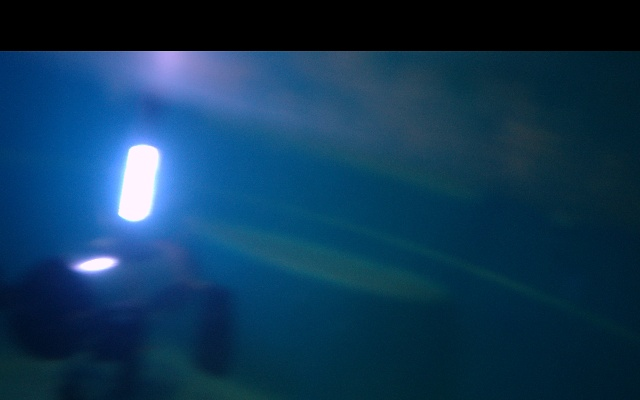white: (115, 143, 161, 223)
